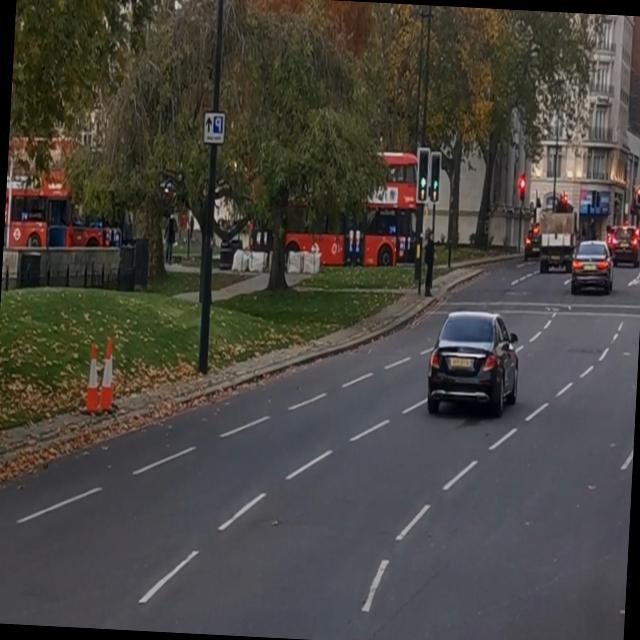Vehicle: (423, 310, 522, 428), (570, 238, 616, 301)
